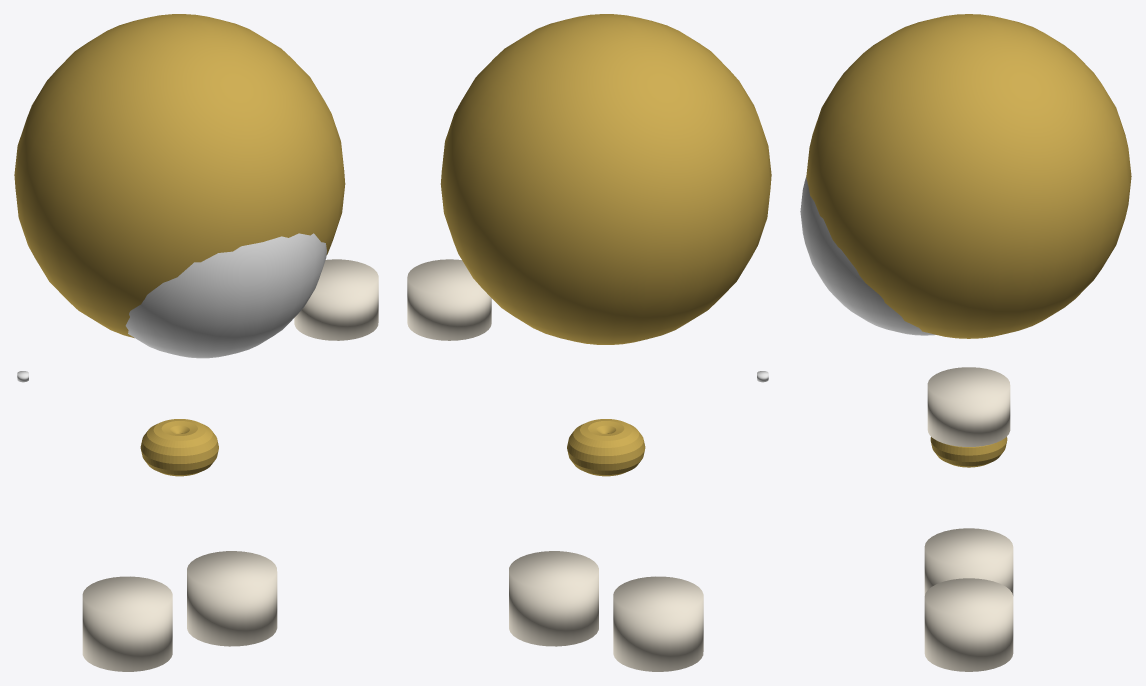
File: astronaut.glb
3 renders of one model, left to right at view 1: azimuth 30°, elevation 25°; view 2: azimuth 150°, elevation 25°; view 3: azimuth 270°, elevation 25°, orthographic.
Parts seen in each view (by area): view 1: Sphere, Sphere.001, Cylinder.002, Cylinder.003, Cylinder.001, Torus; view 2: Sphere, Cylinder.002, Cylinder.003, Cylinder.001, Torus; view 3: Sphere, Cylinder.003, Cylinder.001, Sphere.001, Cylinder.002, Torus.
Part boxes in pixels (<box>): Sphere: <box>14,14,345,338</box>; Sphere.001: <box>125,233,326,358</box>; Cylinder.002: <box>82,576,172,671</box>; Cylinder.003: <box>187,551,277,646</box>; Cylinder.001: <box>294,259,378,340</box>; Torus: <box>140,419,218,476</box>; Sphere: <box>440,14,771,344</box>; Cylinder.002: <box>613,576,703,671</box>; Cylinder.003: <box>509,551,598,646</box>; Cylinder.001: <box>407,259,491,340</box>; Torus: <box>567,419,645,476</box>; Sphere: <box>806,14,1131,338</box>; Cylinder.003: <box>924,578,1013,671</box>; Cylinder.001: <box>927,367,1010,446</box>; Sphere.001: <box>800,177,935,335</box>; Cylinder.002: <box>924,528,1013,595</box>; Torus: <box>930,437,1007,467</box>.
Size of the model in its own units: 1.36 by 2.24 by 1.12.
